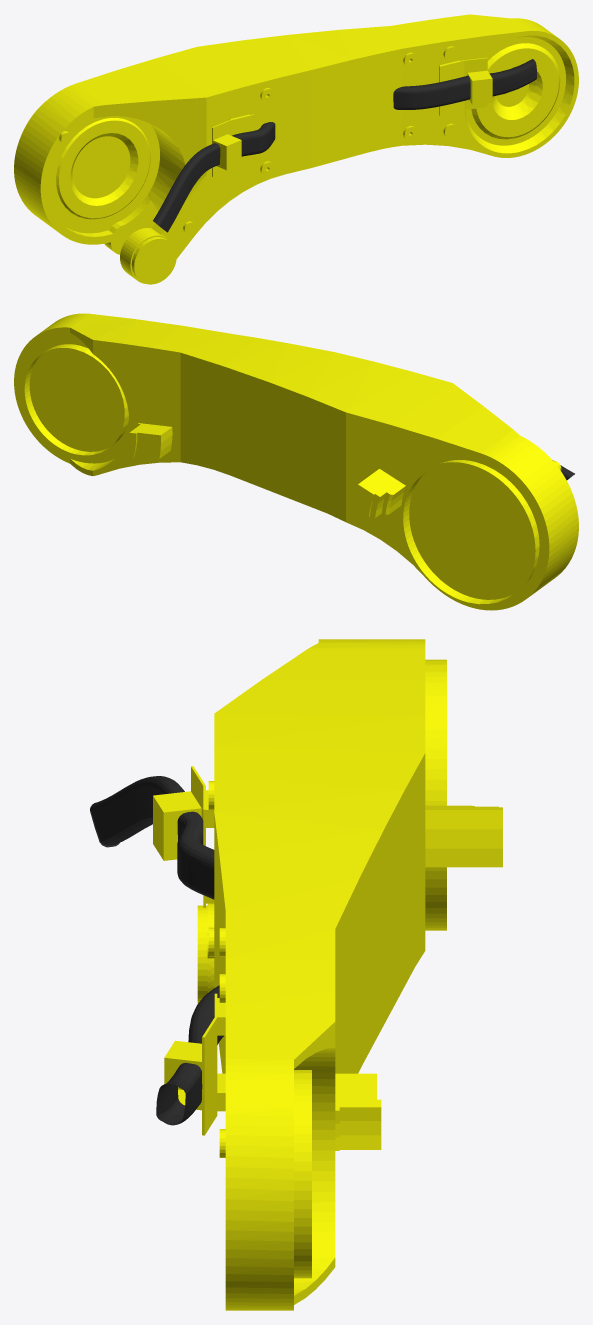
3 renders of one model, top to bottom at view 1: azimuth 30°, elevation 25°; view 2: azimuth 150°, elevation 25°; view 3: azimuth 270°, elevation 25°, orthographic. The views are drawn at different scales.
Visible parts, largest first — view 1: node; view 2: node; view 3: node.
Part boxes in pixels (x1,y1,x2,y2): node: (14, 14, 578, 284); node: (14, 313, 578, 610); node: (90, 639, 502, 1310).
Size of the model in its own units: 1426 by 458 by 495.
